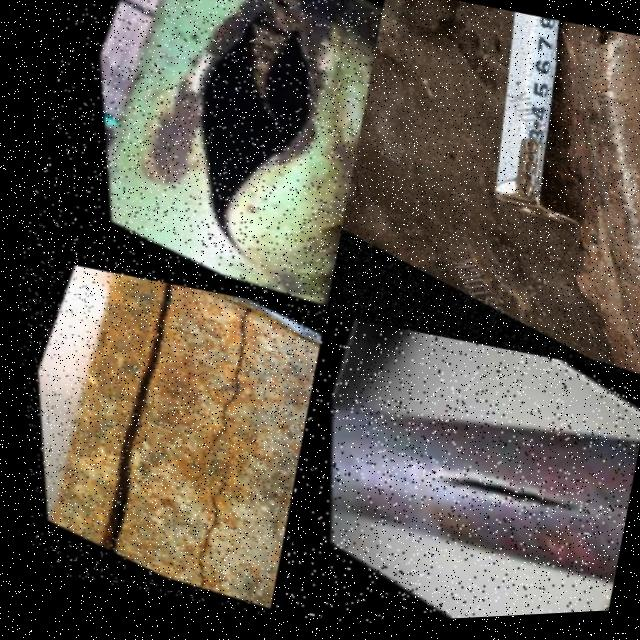crack: (13, 253, 273, 594), (128, 285, 301, 493), (114, 433, 270, 610), (411, 484, 580, 522)
hole: (546, 24, 621, 77)
rupture: (176, 1, 318, 278)
